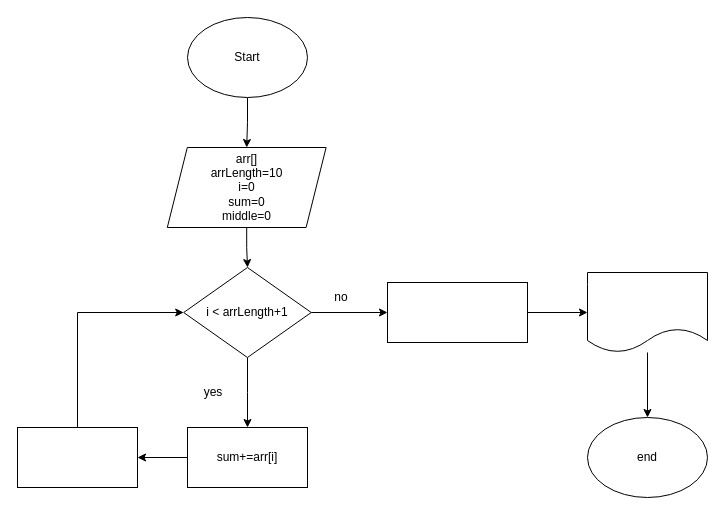
This 725x515 diagram has some shape labels left out. Each missing label, with the centre of its shape:
i+=1: pixel 77 457
middle: pixel 647 312
middle=sum / arrLength: pixel 457 312
